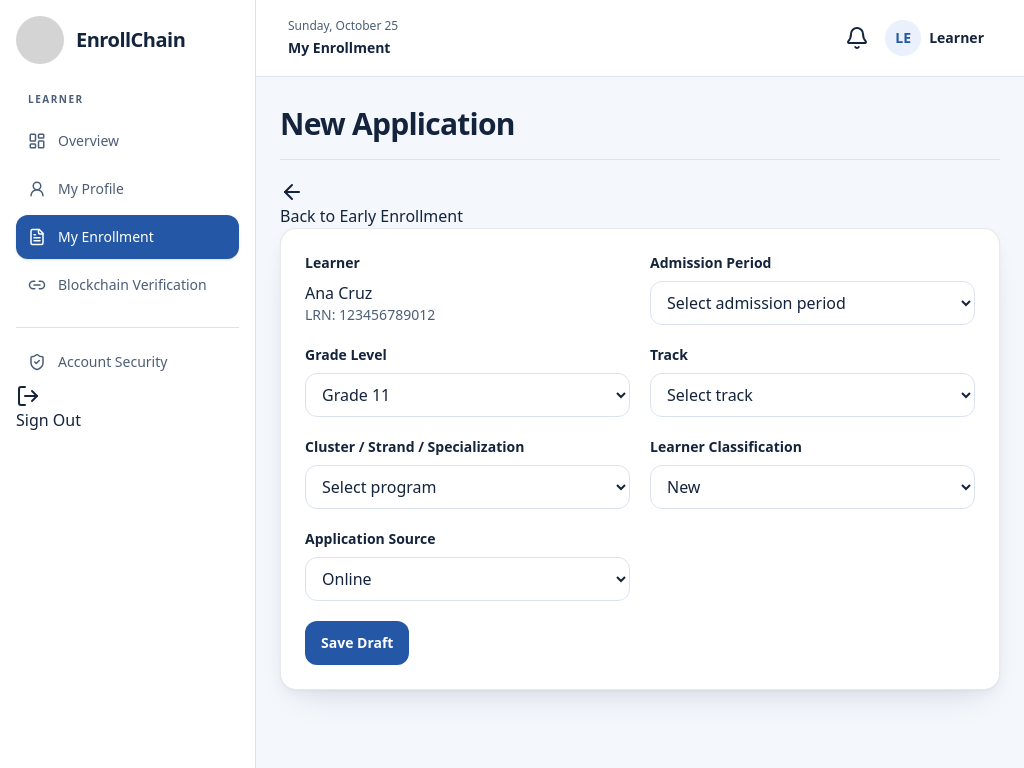
Test: Milestone 1 › filters configurable programs by track and creates a draft
The image size is (1024, 768).
Select "Academic" in the dropdown labelled "Track": (812, 394) [650,372,975,416]
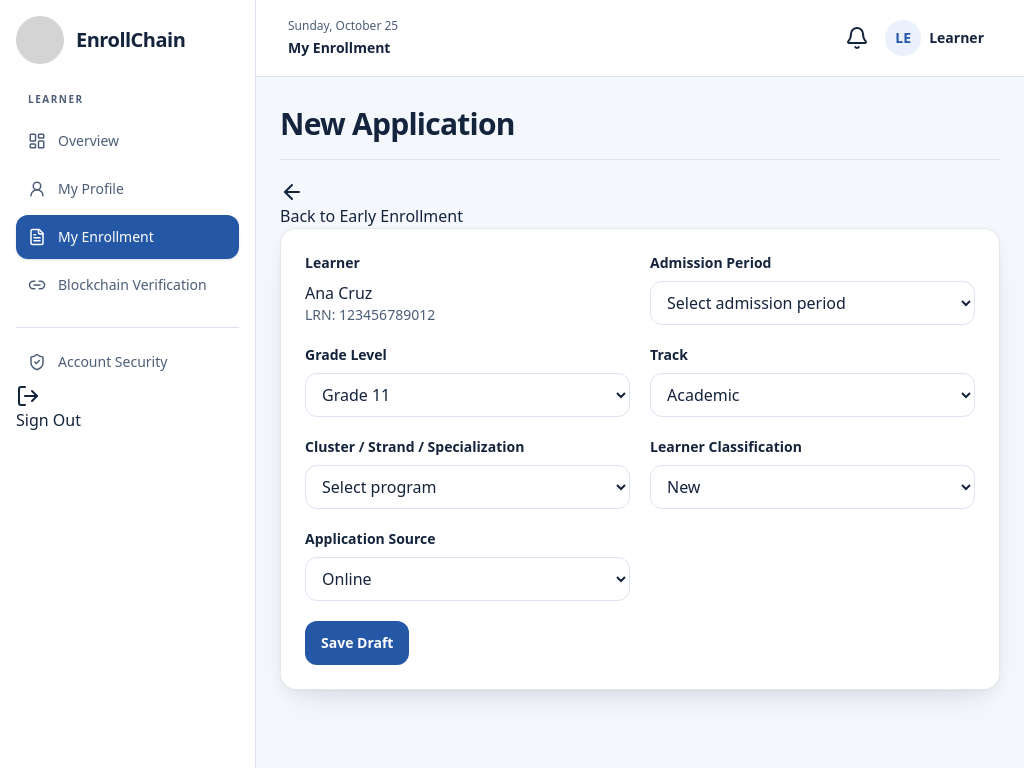
Check: the option "Configured technical program" is not shown
Select "Technical Professional" in the dropdown labelled "Track": (812, 394) [650,372,975,416]
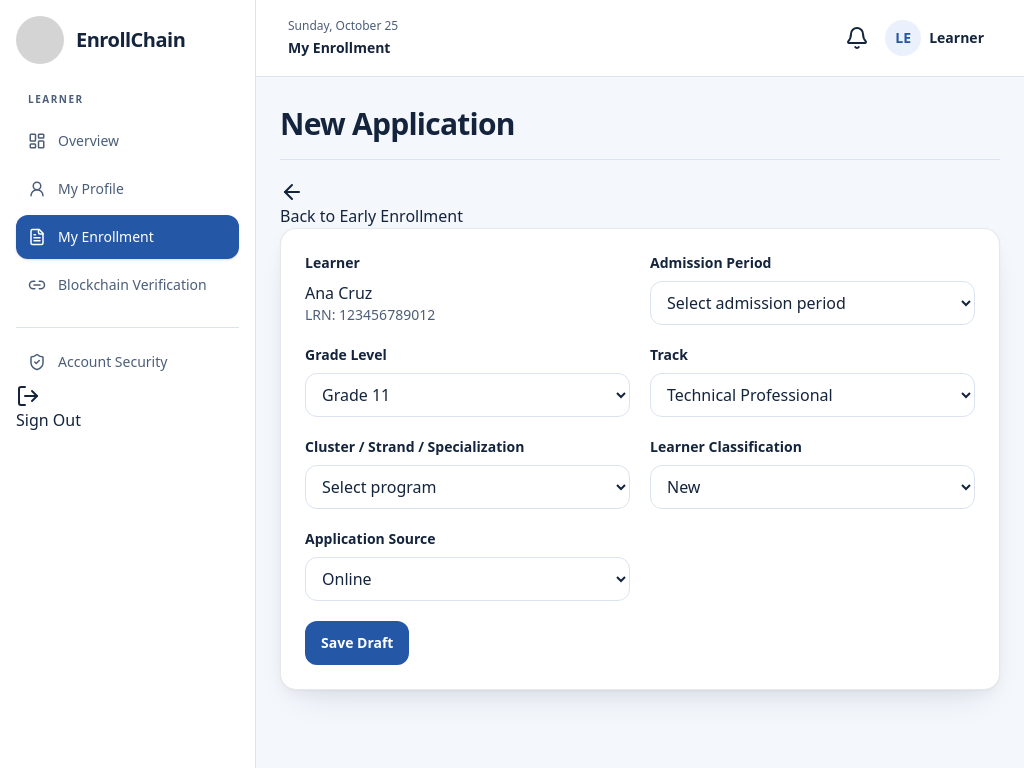
Check: the text "Ana Cruz" is shown, box [305,282,372,304]
Select "SHS admission (2026-01-01 to 2026-12-31)" in the dropdown labelled "Admission period": (812, 302) [650,280,975,324]
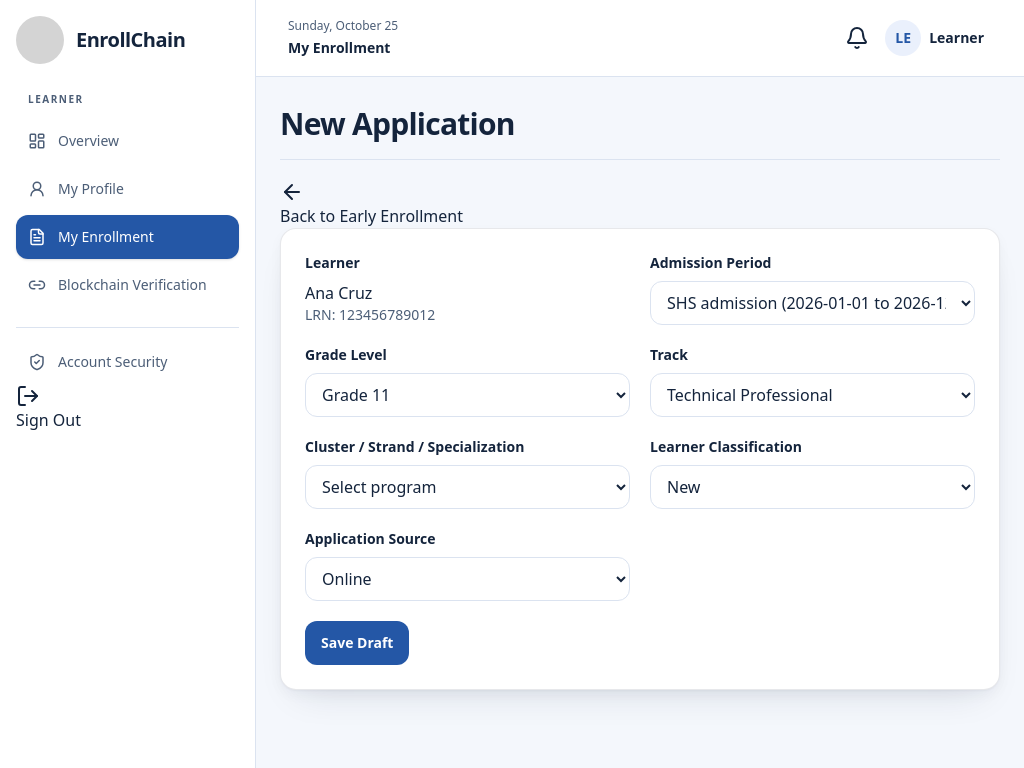
Select "Configured technical program" in the dropdown labelled "Cluster / strand / specialization": (468, 486) [305,464,630,508]
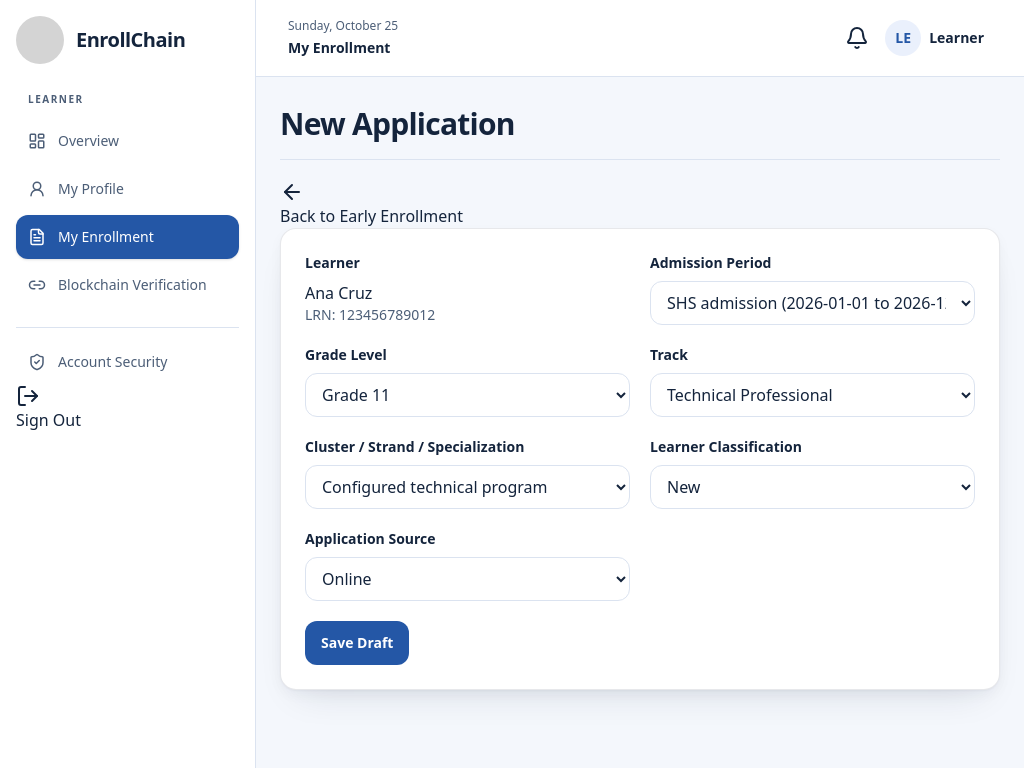
Click the button "Save draft": (357, 642) [305,620,409,664]
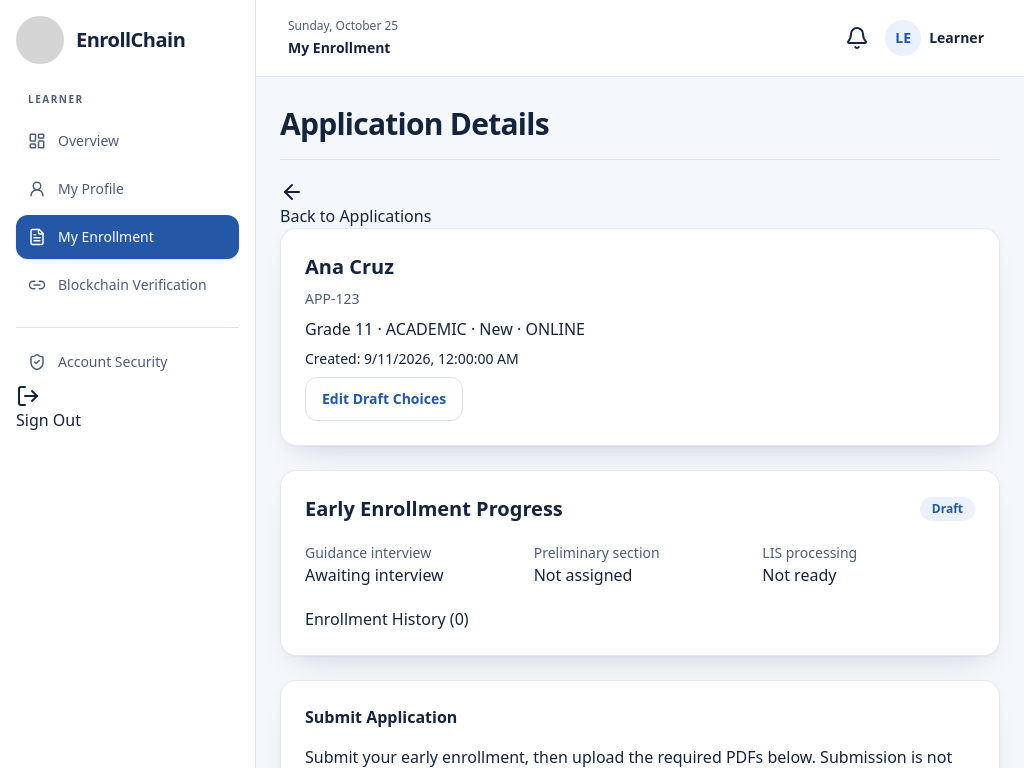
Check: the heading "Application details" is shown, box [280,103,549,144]
